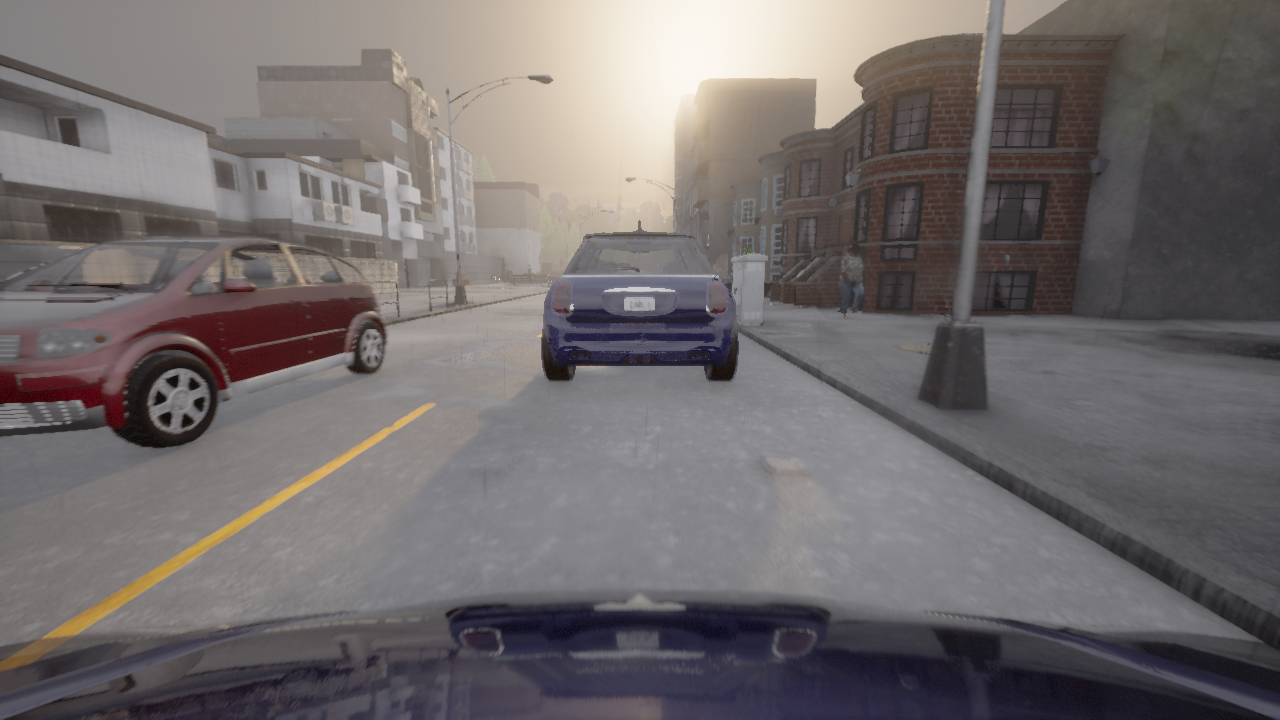cyclist: (0, 588, 1279, 719), (0, 236, 387, 448), (542, 221, 737, 380)
pedestrian: (838, 243, 864, 318), (835, 247, 853, 313)
